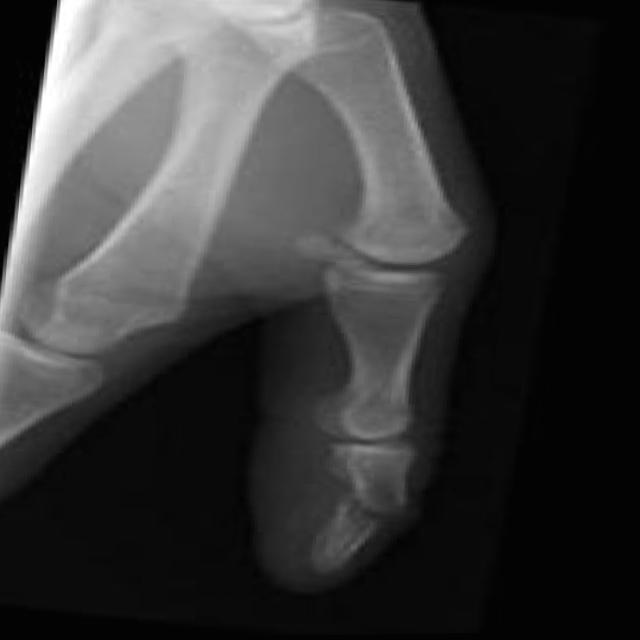Transverse Displaced: (326, 476, 419, 539)
